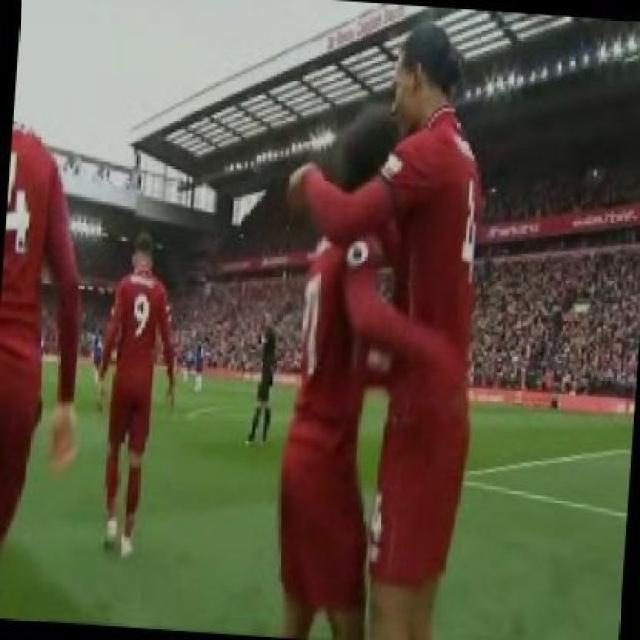non-fight: (284, 20, 468, 640), (275, 109, 463, 640), (94, 238, 172, 552), (247, 306, 279, 446)
